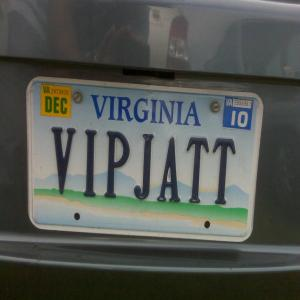Vehicle-registration-plate: (20, 81, 270, 241)
